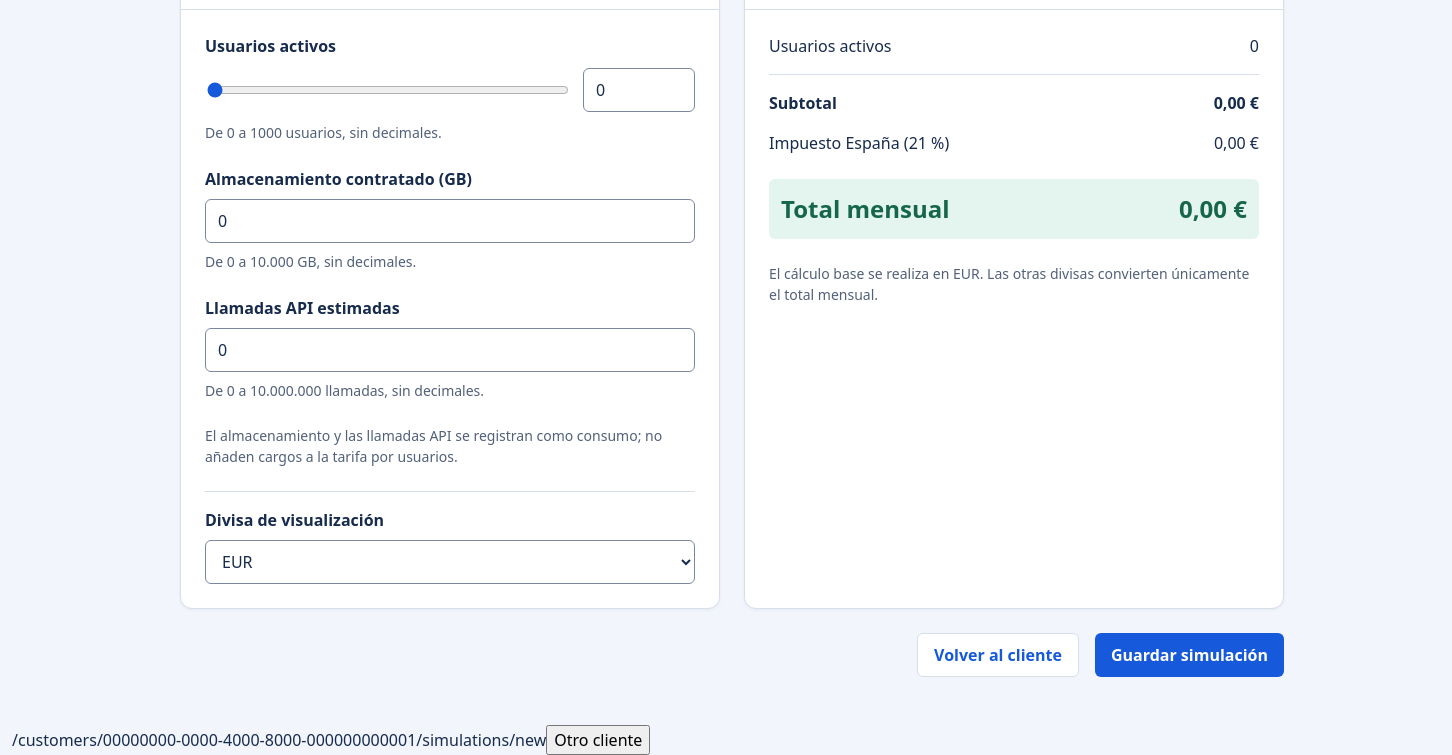
Test: preserves detail pagination/list search through navigation and breadcrumbs
The image size is (1452, 755).
(page scrolled)
Expected: the field labelled "Usuarios activos" is enabled, top-left (583, 68), bottom-right (695, 112)
Click the link "Volver al cliente".
click(998, 655)  # box top-left (917, 633), bottom-right (1079, 677)
(page scrolled)
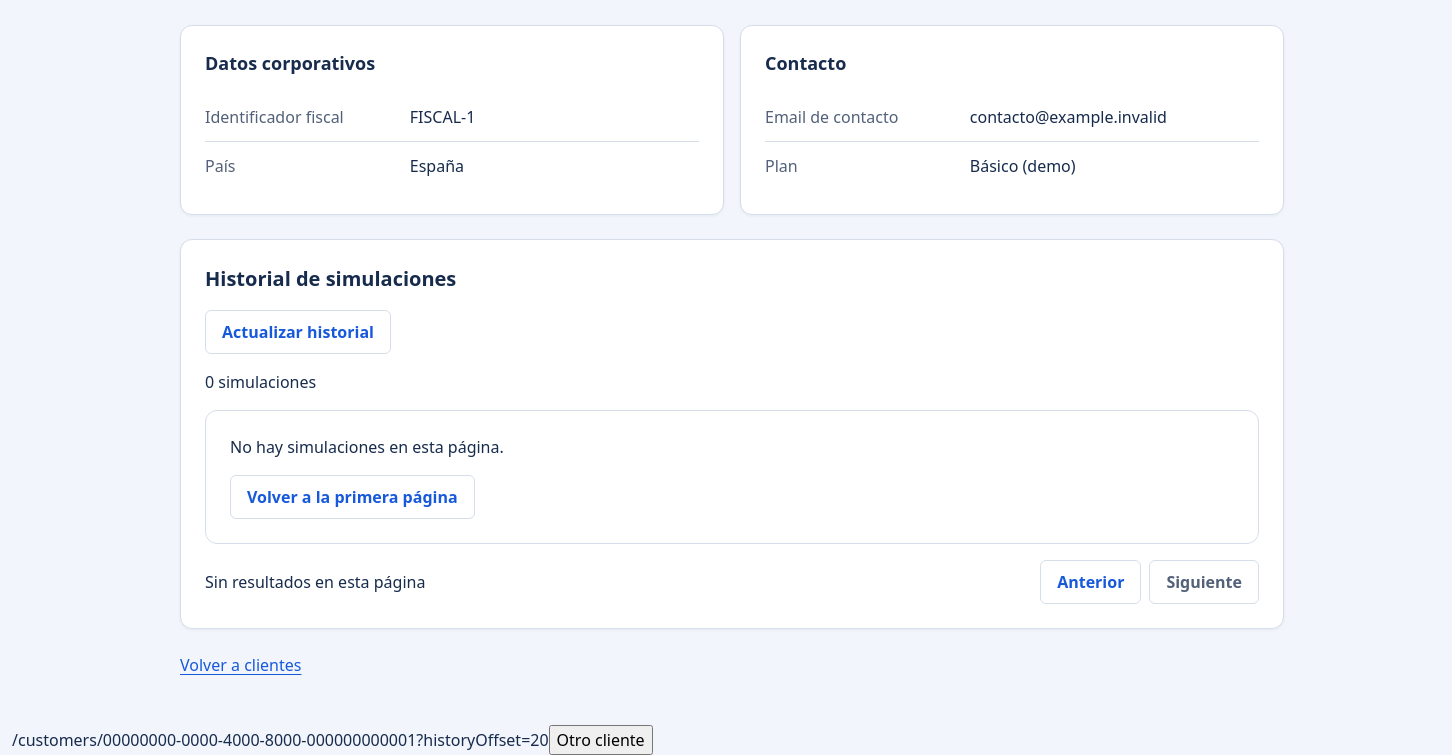
Now the text named "URL actual" shows "?historyOffset=20", box top-left (12, 729), bottom-right (549, 751)
